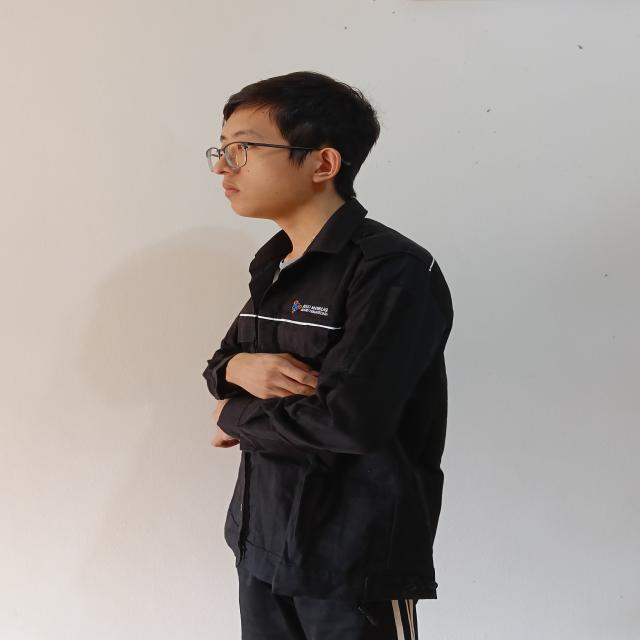person_with_labcoat: (203, 72, 453, 640)
